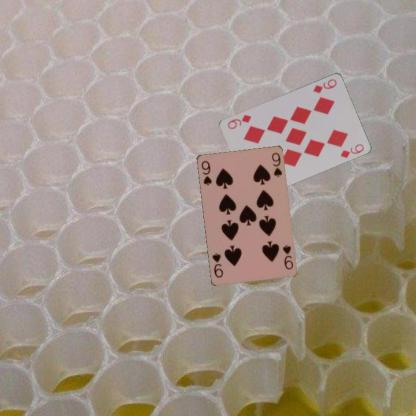9d: (310, 76, 338, 94)
9s: (198, 158, 212, 186), (280, 242, 294, 270)
